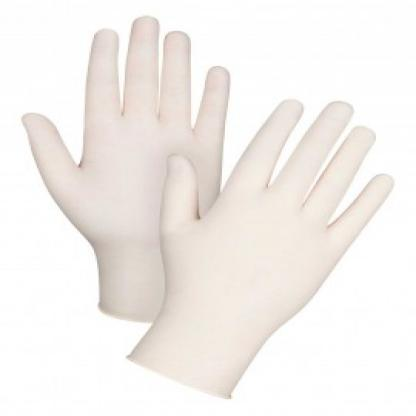with_gloves: (24, 17, 395, 402)
